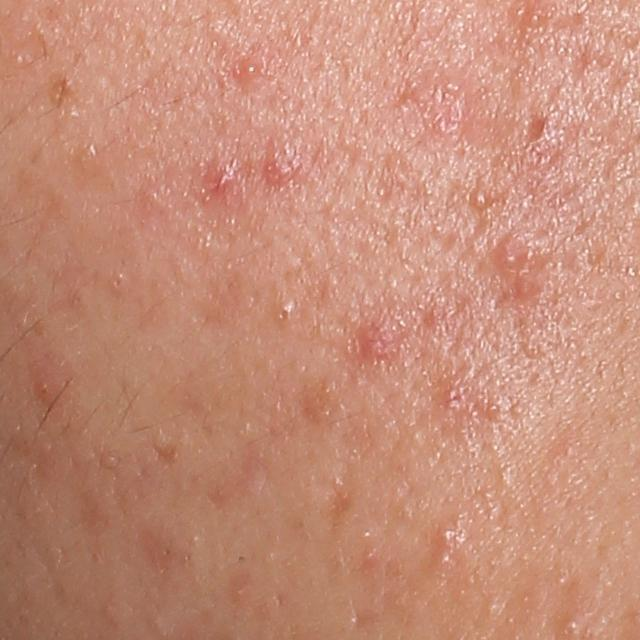atrophic_scar: (524, 111, 547, 144), (153, 441, 180, 469)
papule: (355, 323, 391, 365), (492, 236, 530, 273), (208, 162, 239, 197), (235, 53, 267, 85), (266, 154, 294, 186), (30, 373, 58, 401), (433, 523, 459, 549)
